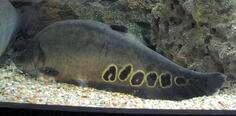Knifefish: (13, 18, 226, 103)
